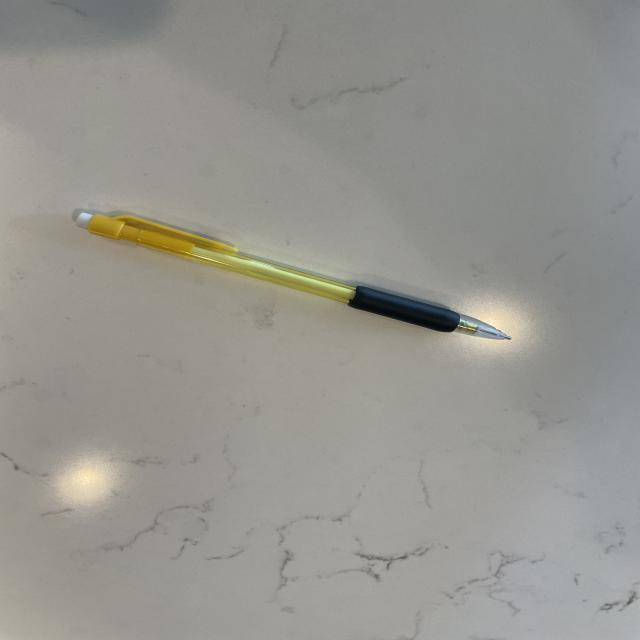mechanical-pencils: (76, 209, 516, 346)
